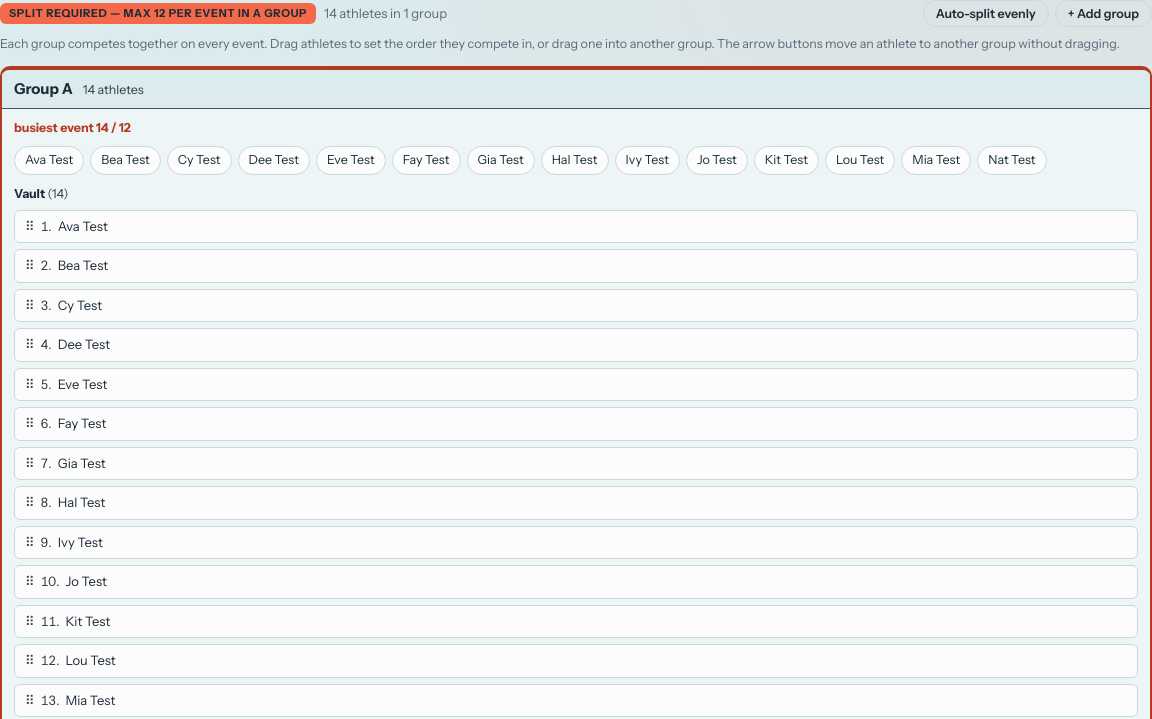
Scenario: CompetitionOrderCard — groups › flags an over-cap group; auto-split fixes it and reports a membership change
The width and height of the screenshot is (1152, 719).
Expected: the text "Split required — max 12 per event in a group" is shown, [0, 3, 316, 24]
Expected: the text "busiest event 14 / 12" is shown, [14, 120, 131, 135]
Click the button "Auto-split evenly" at (986, 14), box [923, 0, 1049, 27]
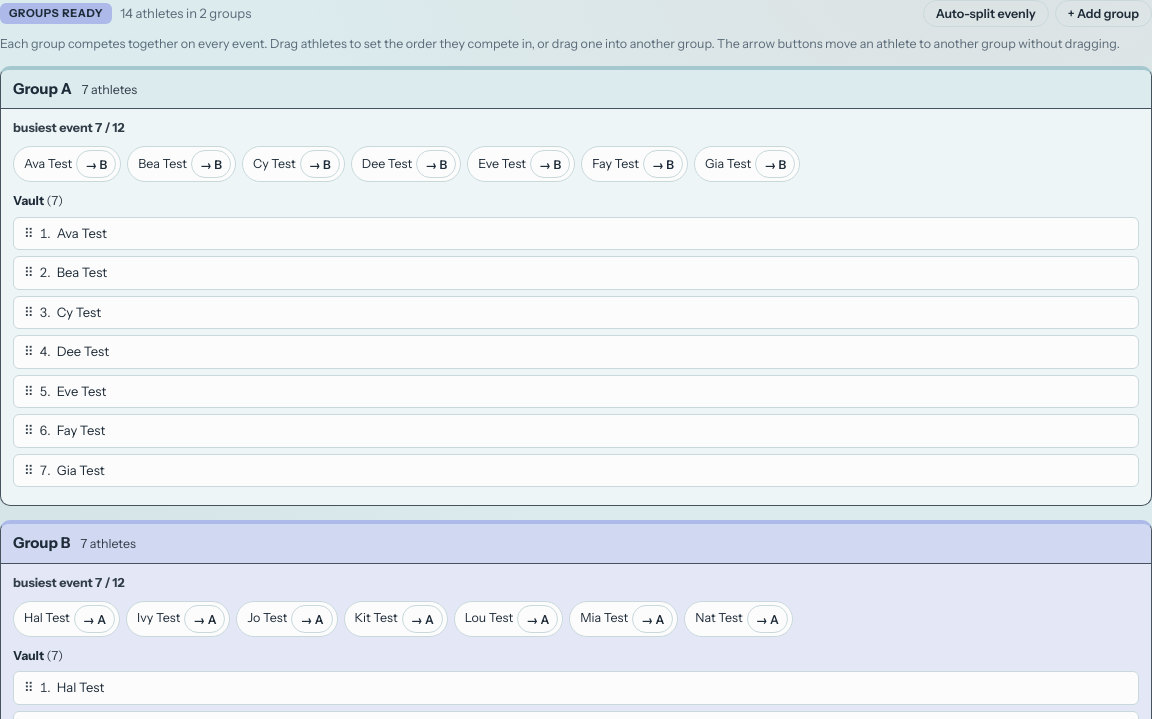
Result: the text "Groups ready" is shown at [0, 3, 112, 24]
